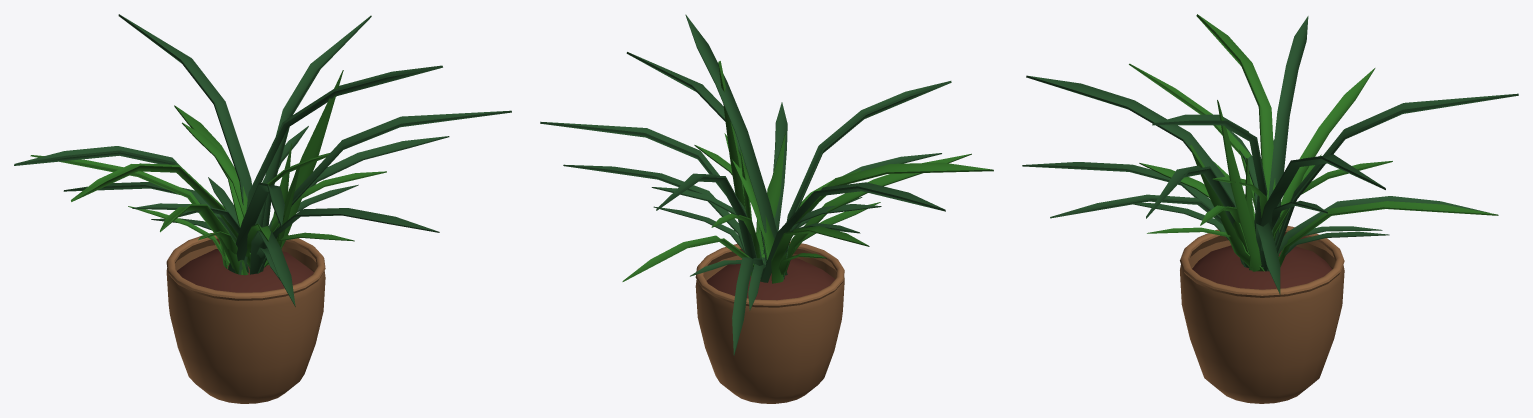
Rendered from PotPlant02.fbx.
3 renders of one model, left to right at view 1: azimuth 30°, elevation 25°; view 2: azimuth 150°, elevation 25°; view 3: azimuth 270°, elevation 25°, orthographic. The views are drawn at different scales.
Visible parts, largest first — view 1: polySurface133; view 2: polySurface133; view 3: polySurface133.
Part boxes in pixels (left/top/right/bottom): polySurface133: left=14, top=14, right=511, bottom=403; polySurface133: left=540, top=14, right=993, bottom=403; polySurface133: left=1022, top=14, right=1518, bottom=403.
Size of the model in its own units: 9.51 by 7 by 9.42.
